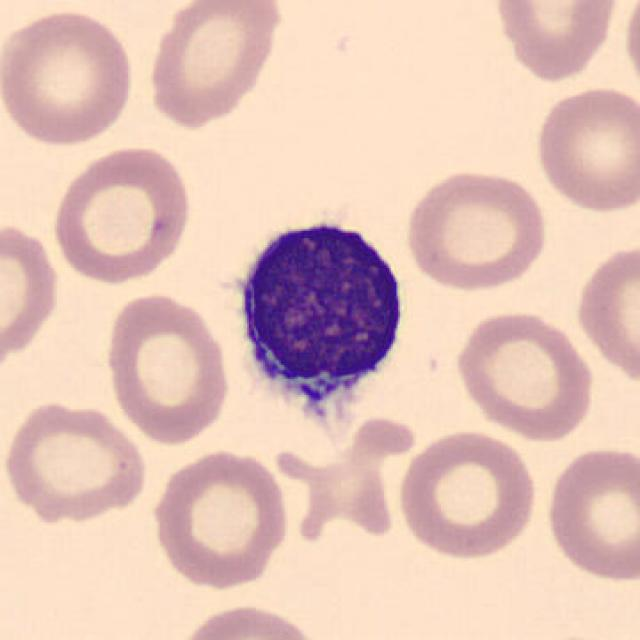Lymphocyte: (226, 203, 416, 439)
RBC: (148, 444, 294, 592), (48, 143, 196, 287), (100, 287, 234, 446), (0, 3, 139, 150), (450, 305, 597, 443), (393, 427, 540, 562), (0, 397, 151, 525), (400, 165, 551, 292), (142, 0, 286, 132), (540, 441, 640, 585), (530, 83, 638, 215), (489, 0, 622, 83), (571, 238, 638, 391), (0, 215, 64, 374), (171, 599, 325, 640), (620, 0, 639, 100)
